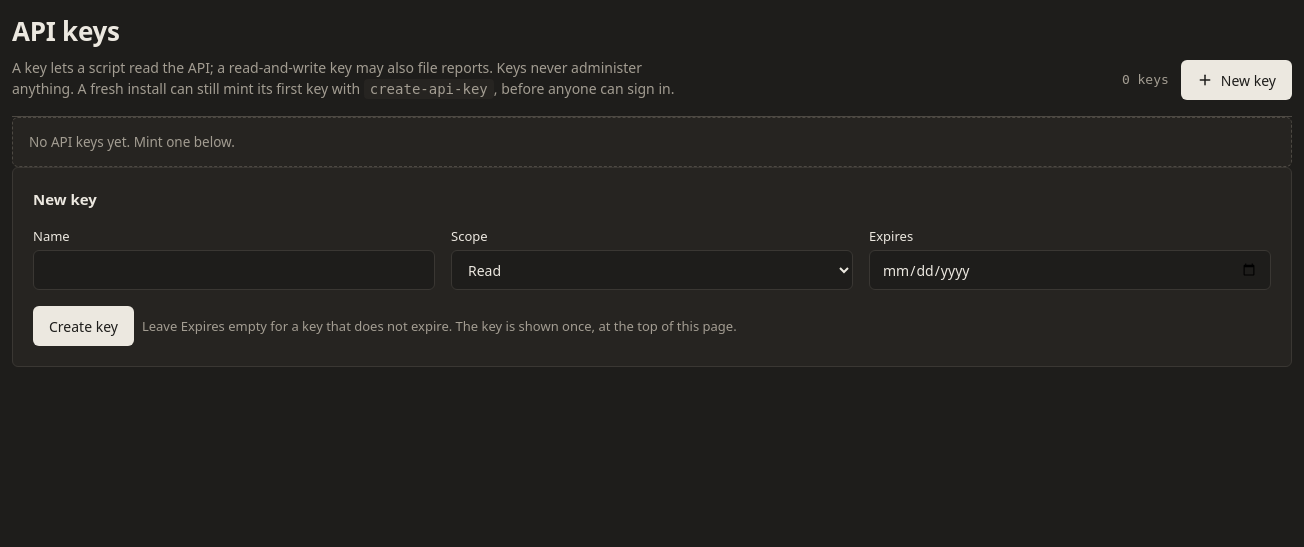
Test case: AdminApiKeysPage › minting sends the chosen scope, turns an empty expiry into null, and reveals the key once
The width and height of the screenshot is (1304, 547).
Type "  a reading script  " into the field labelled "Name".
click(234, 270); type("  a reading script  ")  # box [33,250,435,290]
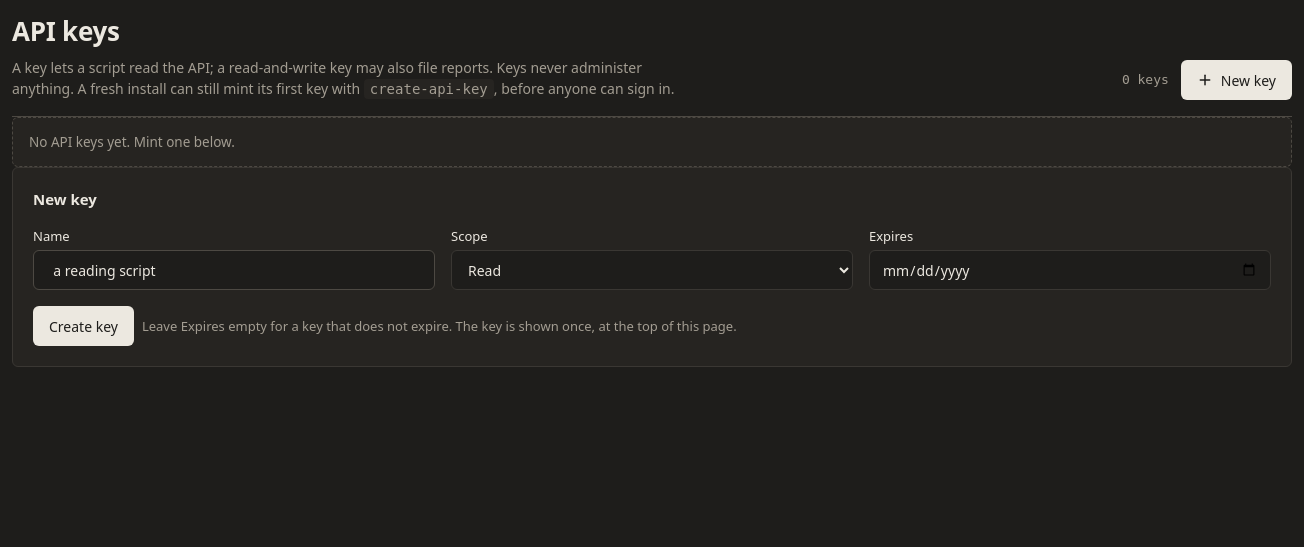
Click the button "Create key".
click(83, 326)  # box [33,306,134,346]
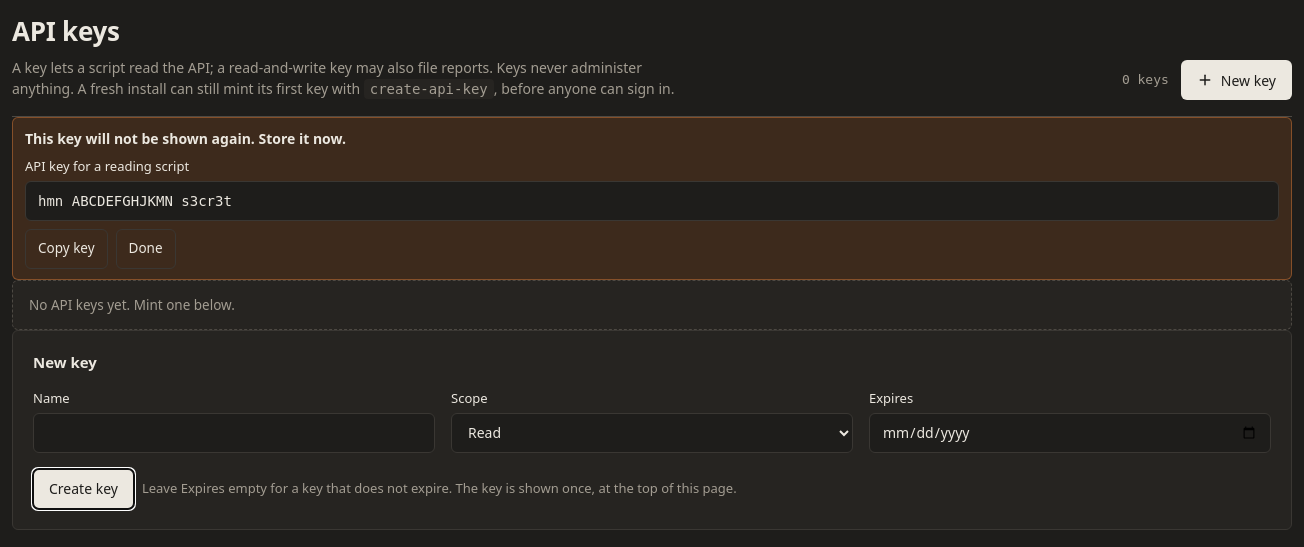
Check: the message is shown, box [12,117,1292,280]
Check: the field labelled "API key for a reading script" holds "hmn_ABCDEFGHJKMN_s3cr3t", box [25,180,1279,220]
